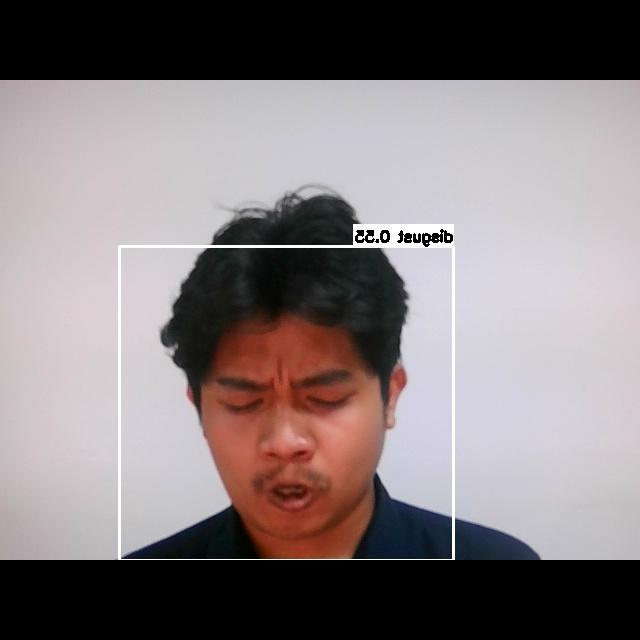Angry: (199, 336, 391, 514)
